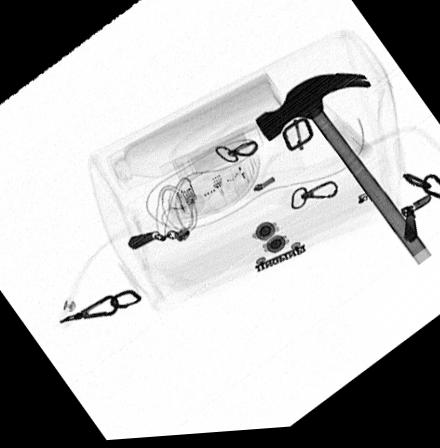Hammer: (252, 76, 431, 272)
